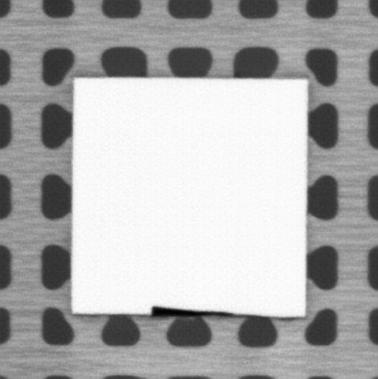DIE_BROKEN: (148, 304, 238, 319)
